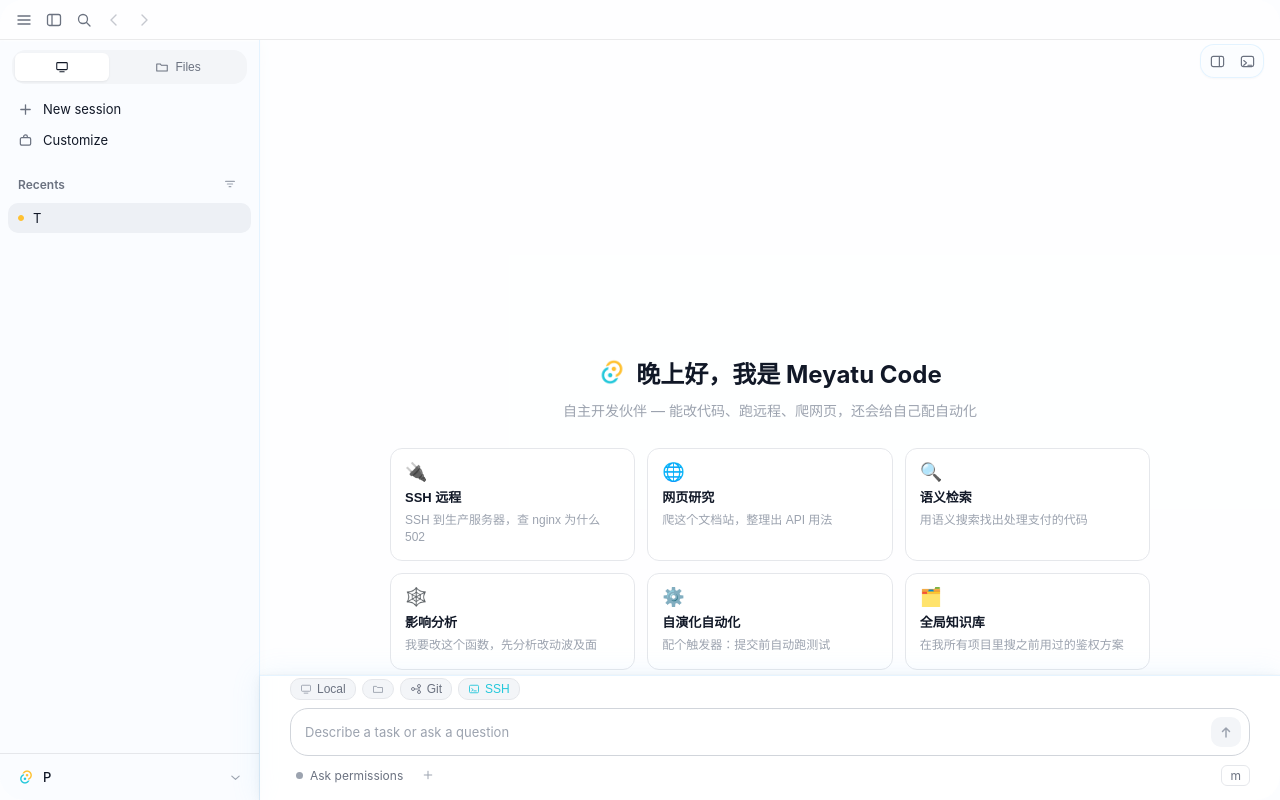
ChatWindow integration › localizes the error-banner label via useT when language is en
Type "hi" into the text box with placeholder "Describe a task or ask a question". click: coordinates (754, 733)
box: [305,719,1203,747]
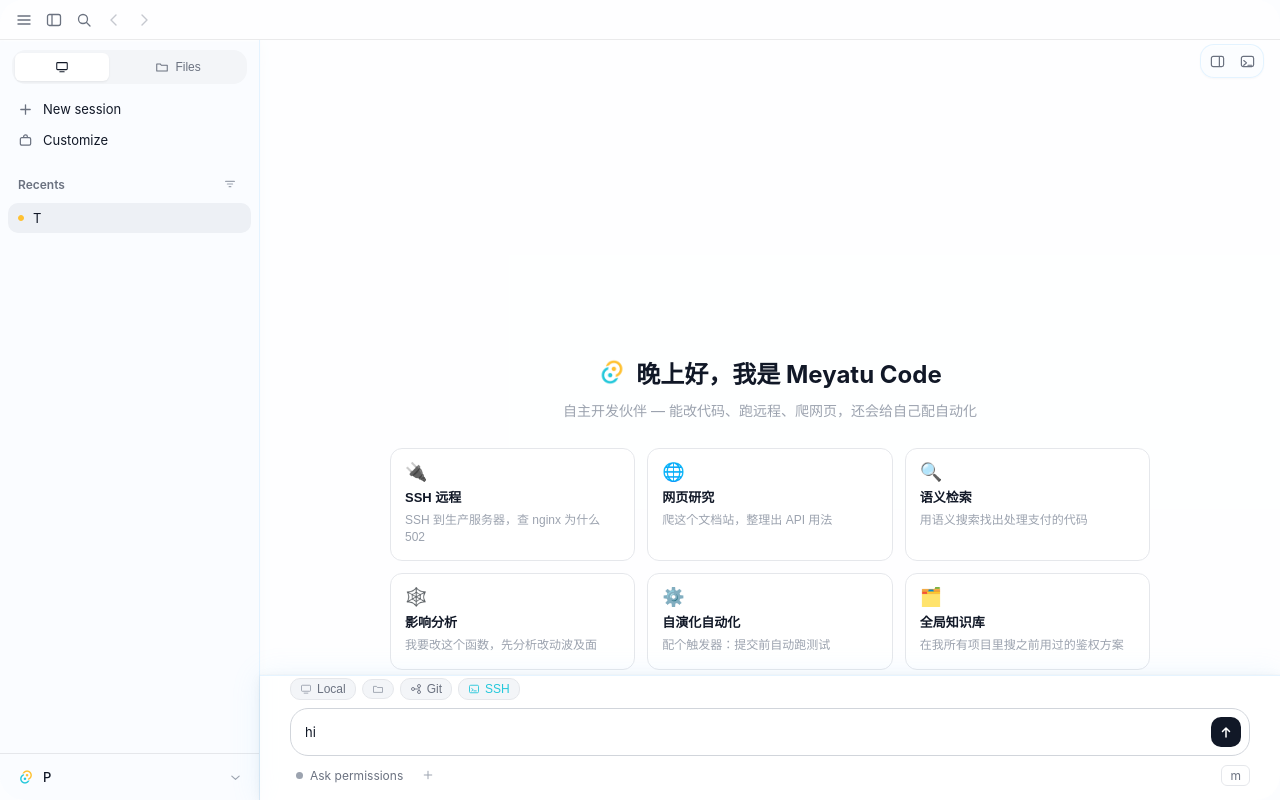
Click the button named "Send message". click: coordinates (1226, 732)
box: [1211,717,1241,747]
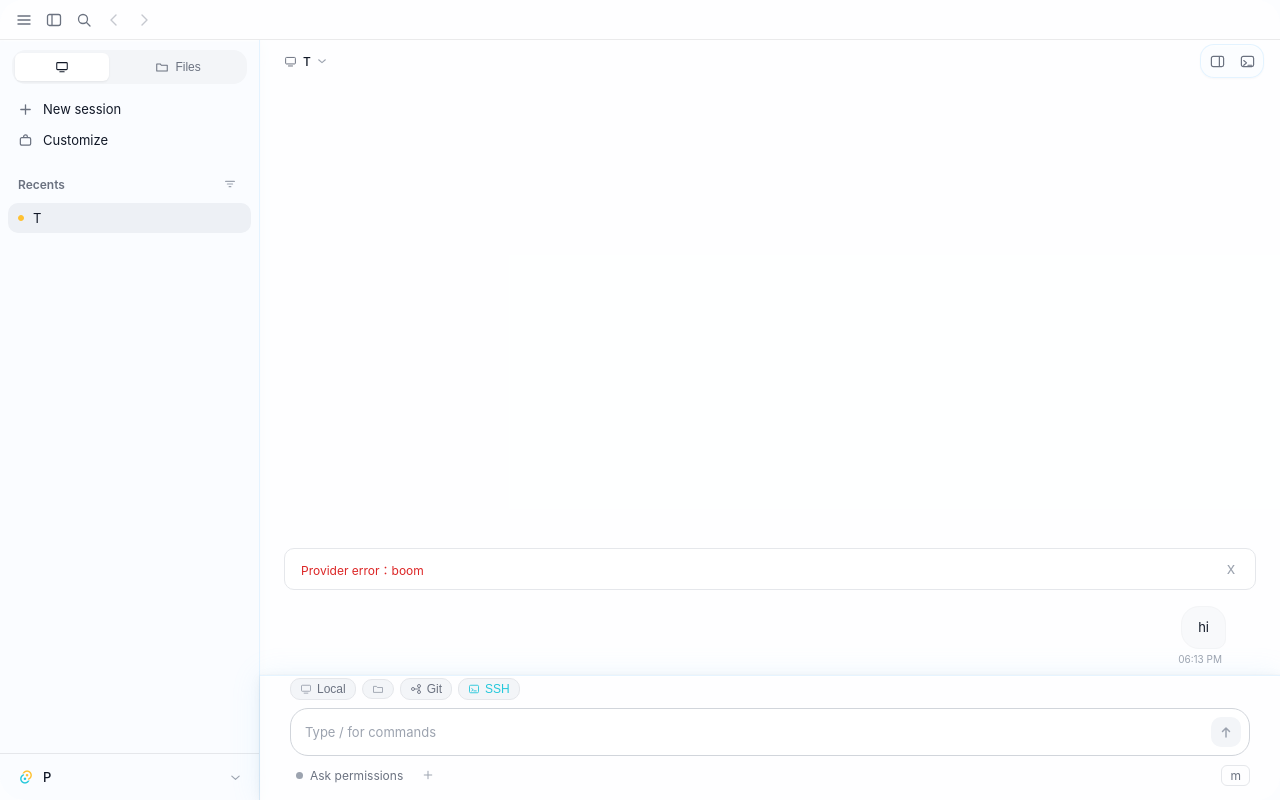
Expected: the text "Provider error：boom" is shown, [301,561,424,578]
